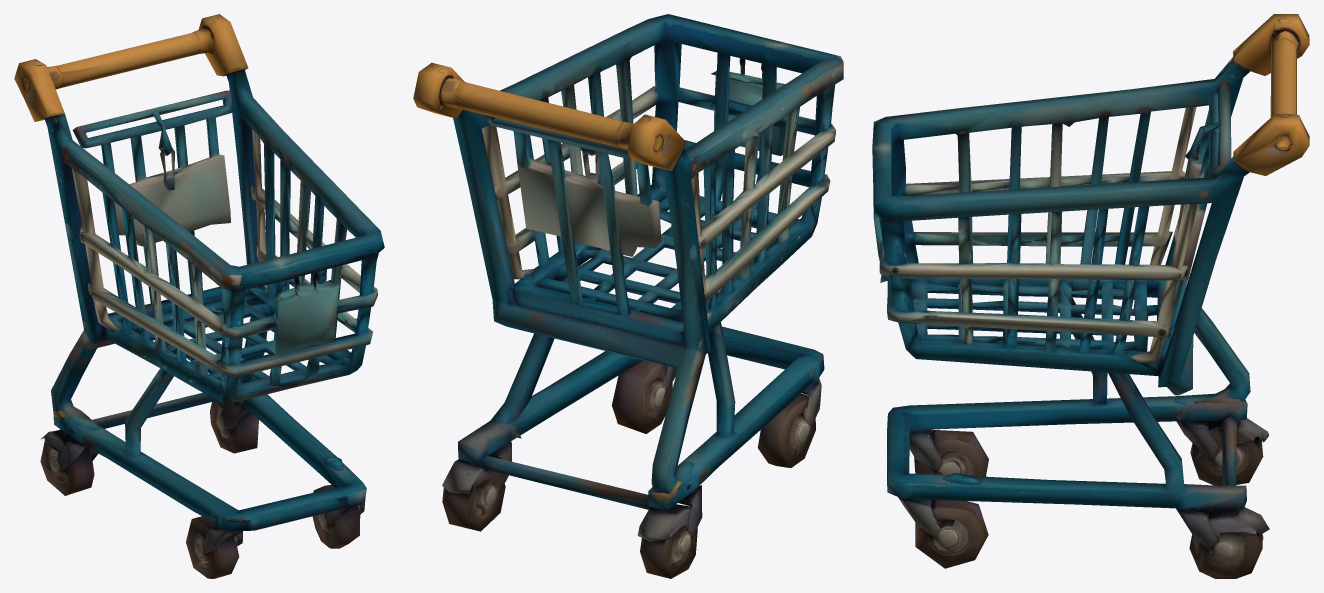
Rendered from mall_shopping_cart_3000.glb.
The picture shows the model from 3 angles, left to right: view 1: azimuth 30°, elevation 25°; view 2: azimuth 150°, elevation 25°; view 3: azimuth 270°, elevation 25°; orthographic projection. The views are drawn at different scales.
Visible parts, largest first — view 1: tripo_node_ce1794ed-d70b-4262-b7dd-ee3d7ece76eb; view 2: tripo_node_ce1794ed-d70b-4262-b7dd-ee3d7ece76eb; view 3: tripo_node_ce1794ed-d70b-4262-b7dd-ee3d7ece76eb.
Part boxes in pixels (x1,y1,x2,y2): tripo_node_ce1794ed-d70b-4262-b7dd-ee3d7ece76eb: (14,14,384,578); tripo_node_ce1794ed-d70b-4262-b7dd-ee3d7ece76eb: (413,14,843,578); tripo_node_ce1794ed-d70b-4262-b7dd-ee3d7ece76eb: (872,14,1309,578).
Size of the model in its own units: 0.5031 by 0.9832 by 0.8404.
Materials: 1 (1 with a texture image).
